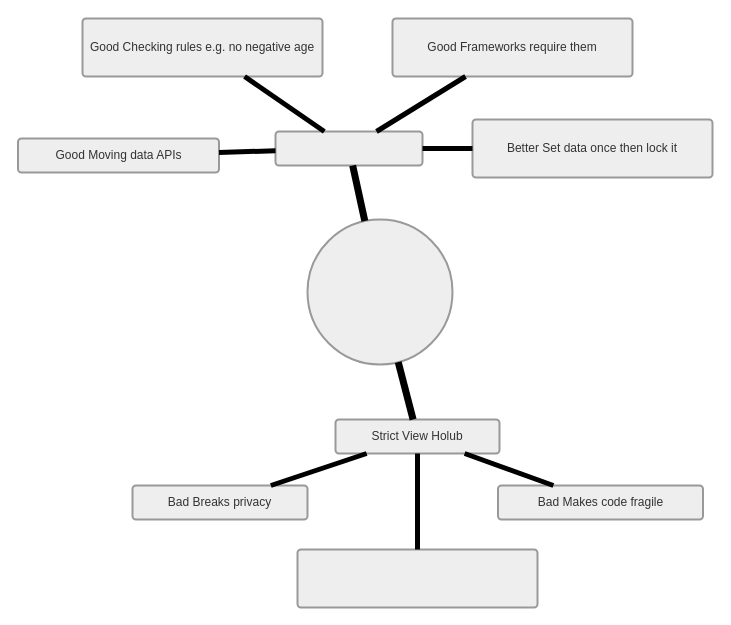
Image size: 731x625. Some labels were removed from this diagram. The shapes that lost their labels are listed below. From the top down, each one's centre as x and y in pixels, then its label:
(348,148): Modern Reality
(379,291): Getters & Setters
(417,578): Fix Tell Dont Ask give commands
